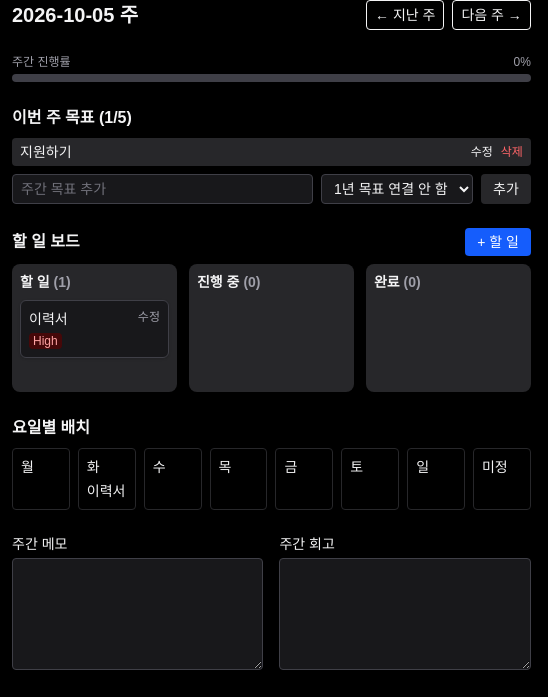
Scenario: WeekView edit and delete › renames a weekly goal
The width and height of the screenshot is (548, 697).
Expected: the text "지원하기" is shown, [20, 142, 72, 162]
Click the button with aria-label "지원하기 수정": (482, 152) [471, 144, 493, 160]
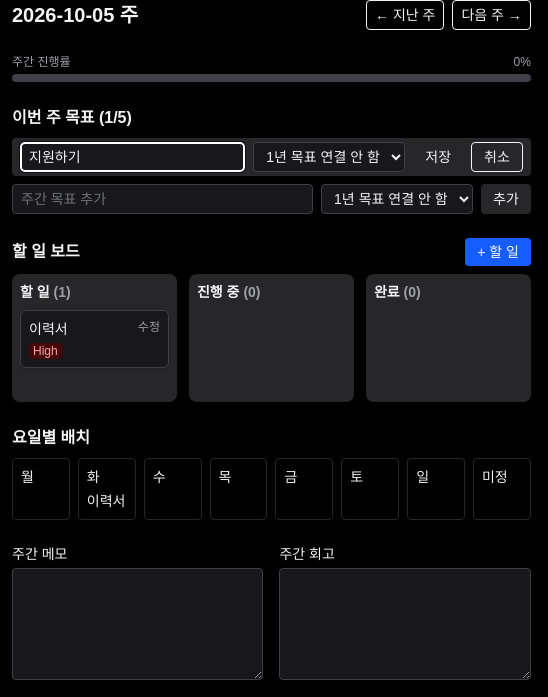
Replace the text in the field named "주간 목표 이름 수정" with "면접 준비": (133, 157) [20, 142, 245, 172]
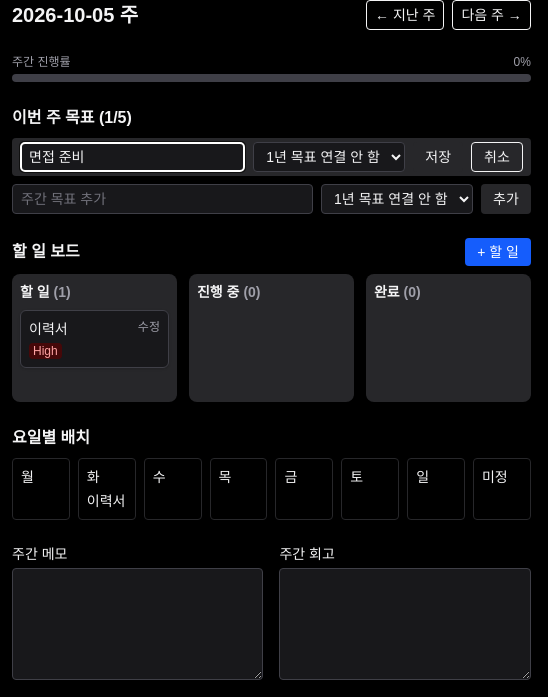
Click the button "저장": (438, 157) [413, 142, 463, 172]
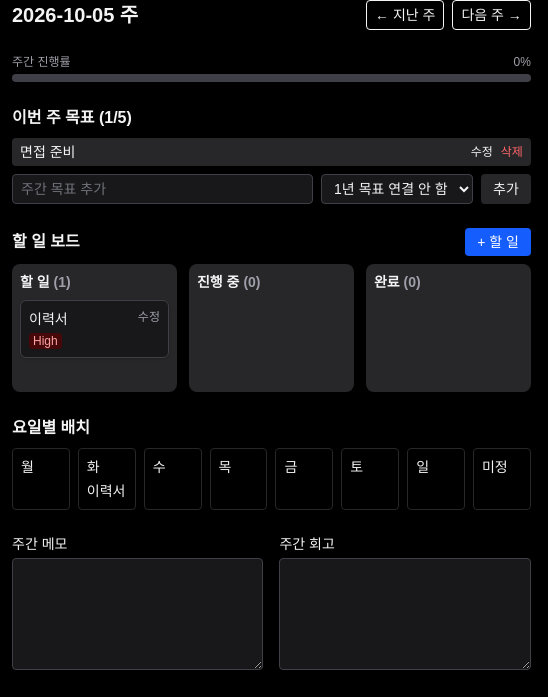
Expected: the text "지원하기" is not shown
Expected: the text "면접 준비" is shown, [20, 142, 75, 162]
